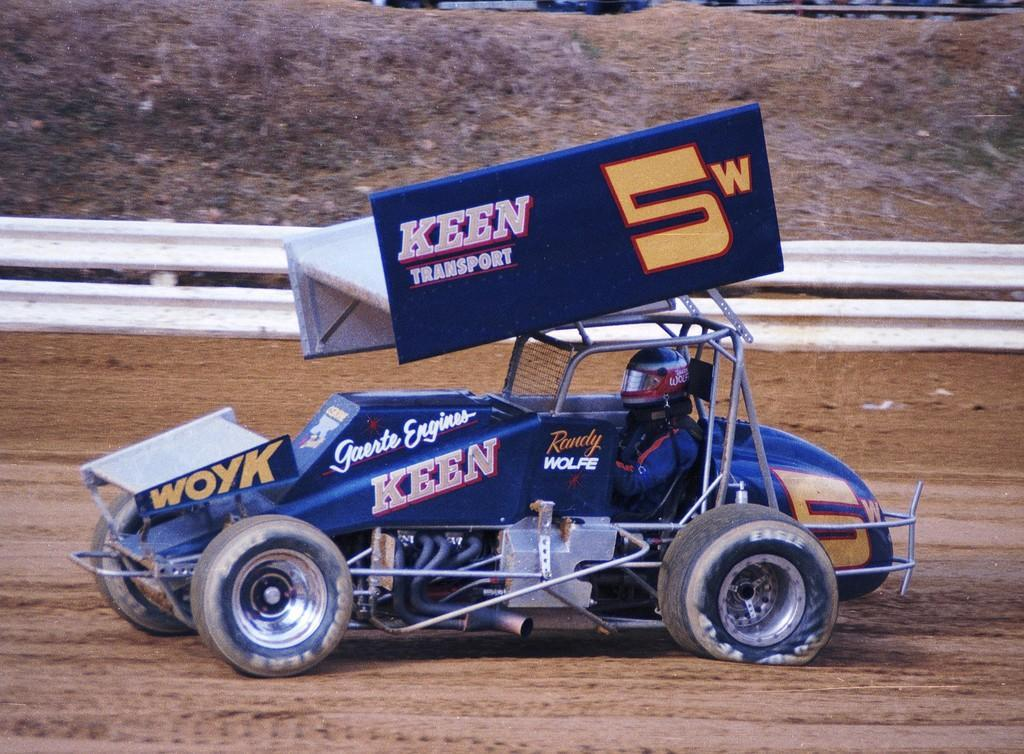helmet: (620, 346, 690, 409)
